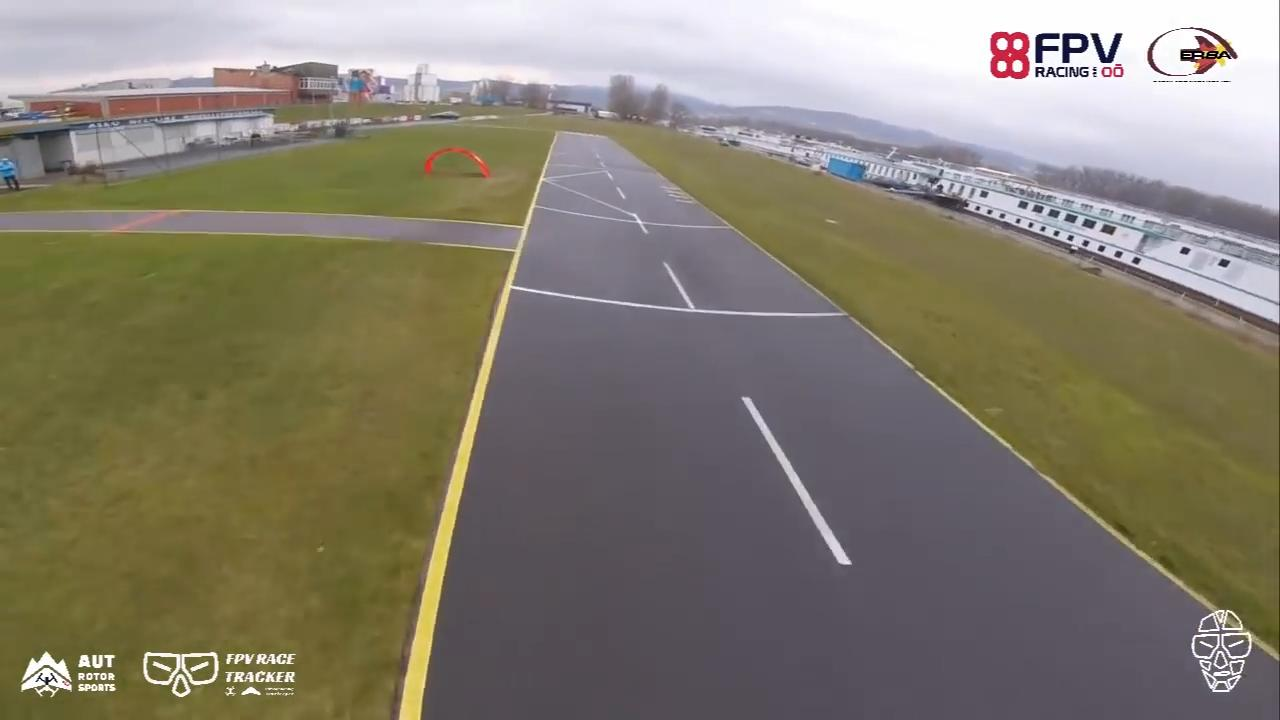gate: (422, 146, 488, 185)
